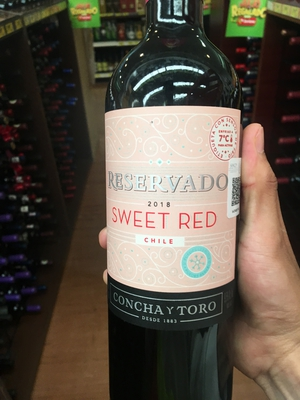reservado sweet red: (99, 6, 248, 400)
